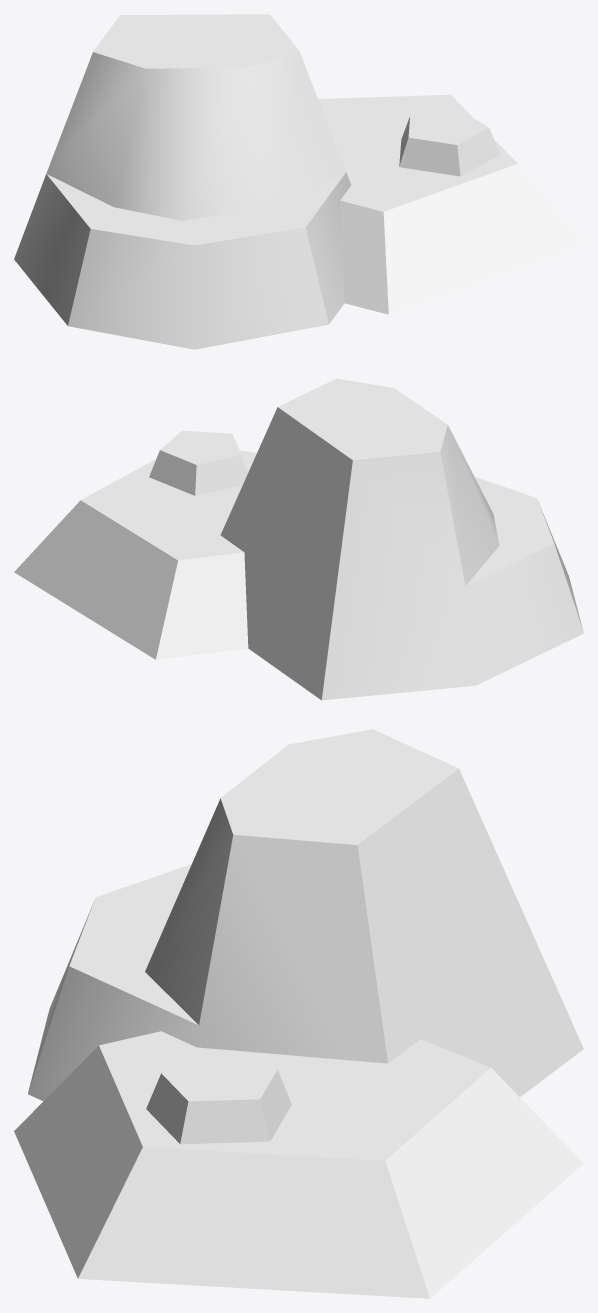
The model's file is water_ice_1.glb.
3 views of the same model, one above another, from view 1: azimuth 30°, elevation 25°; view 2: azimuth 150°, elevation 25°; view 3: azimuth 270°, elevation 25° (orthographic). The views are drawn at different scales.
Parts seen in each view (by area): view 1: rock_single_E; view 2: rock_single_E; view 3: rock_single_E.
Part boxes in pixels (box(x1,y1,x2,y2)): rock_single_E: box(14, 14, 583, 349); rock_single_E: box(14, 378, 583, 700); rock_single_E: box(14, 729, 583, 1298).
Bounding box in the file's own units: 0.4881 × 0.1948 × 0.3475.
Materials: 1 (1 with a texture image).
